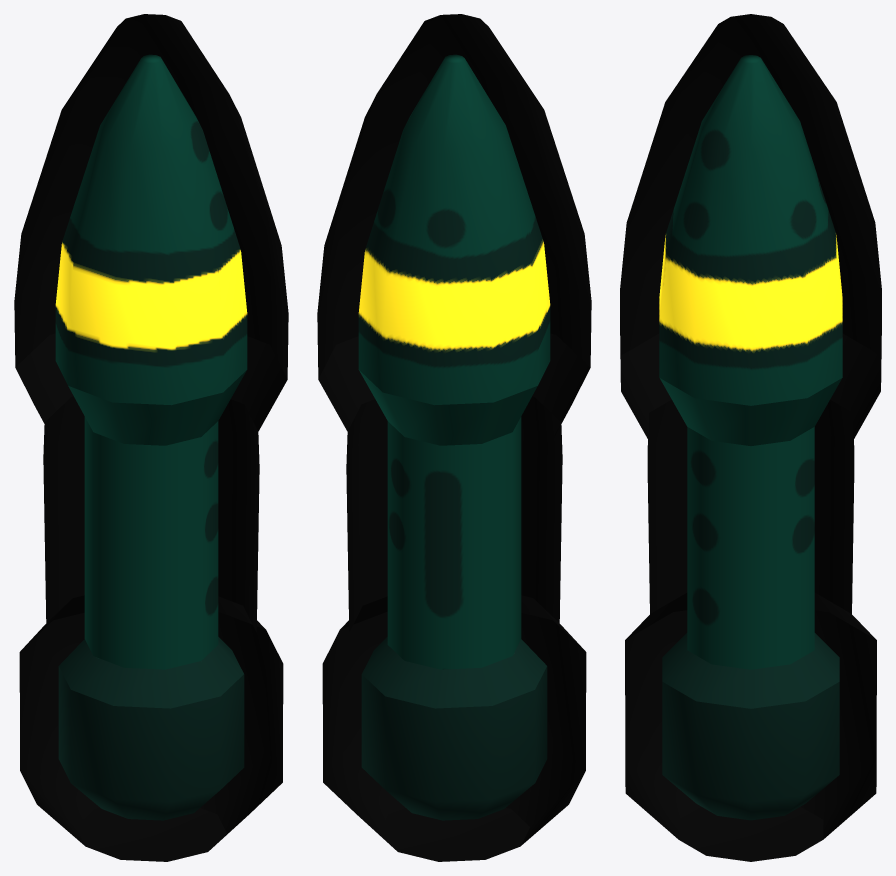
The model's file is bullet_MISSILE.fbx.
3 renders of one model, left to right at view 1: azimuth 30°, elevation 25°; view 2: azimuth 150°, elevation 25°; view 3: azimuth 270°, elevation 25°, orthographic.
Parts seen in each view (by area): view 1: pCylinder7 (×2); view 2: pCylinder7 (×2); view 3: pCylinder7 (×2).
Boxes of the visible parts, left/top/right/bottom form: pCylinder7 (×2): left=14, top=14, right=288, bottom=861; pCylinder7 (×2): left=317, top=14, right=591, bottom=861; pCylinder7 (×2): left=620, top=14, right=881, bottom=861.
Size of the model in its own units: 2.92 by 9.5 by 2.78.
Materials: 2 (1 with a texture image).
